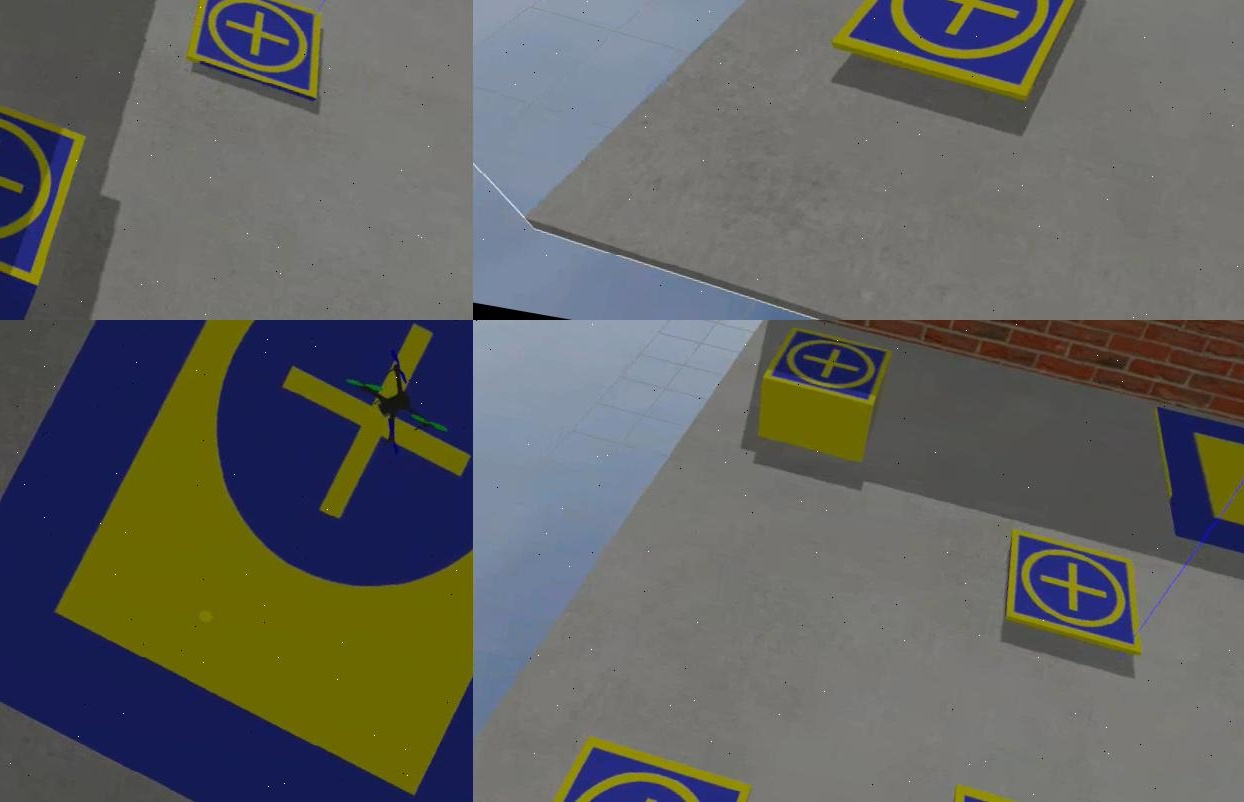large_base: (0, 320, 472, 802), (1131, 408, 1242, 577)
small_base: (824, 1, 1090, 112), (0, 72, 90, 290), (994, 535, 1157, 654), (505, 729, 753, 802), (181, 1, 334, 102), (757, 322, 893, 409)
